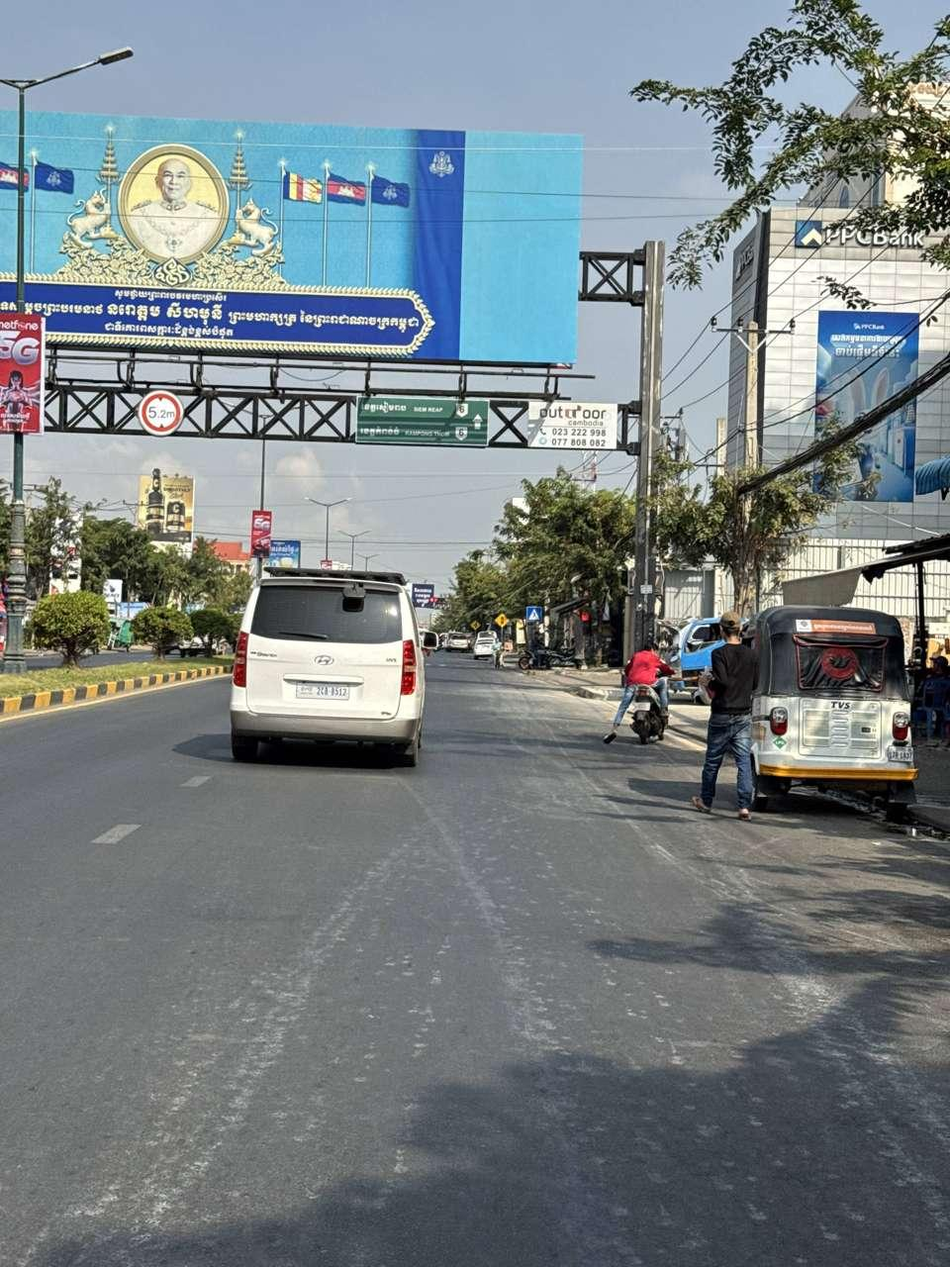height_limit_5_2m: (137, 390, 185, 435)
pedestrian_crossing: (525, 606, 543, 624)
